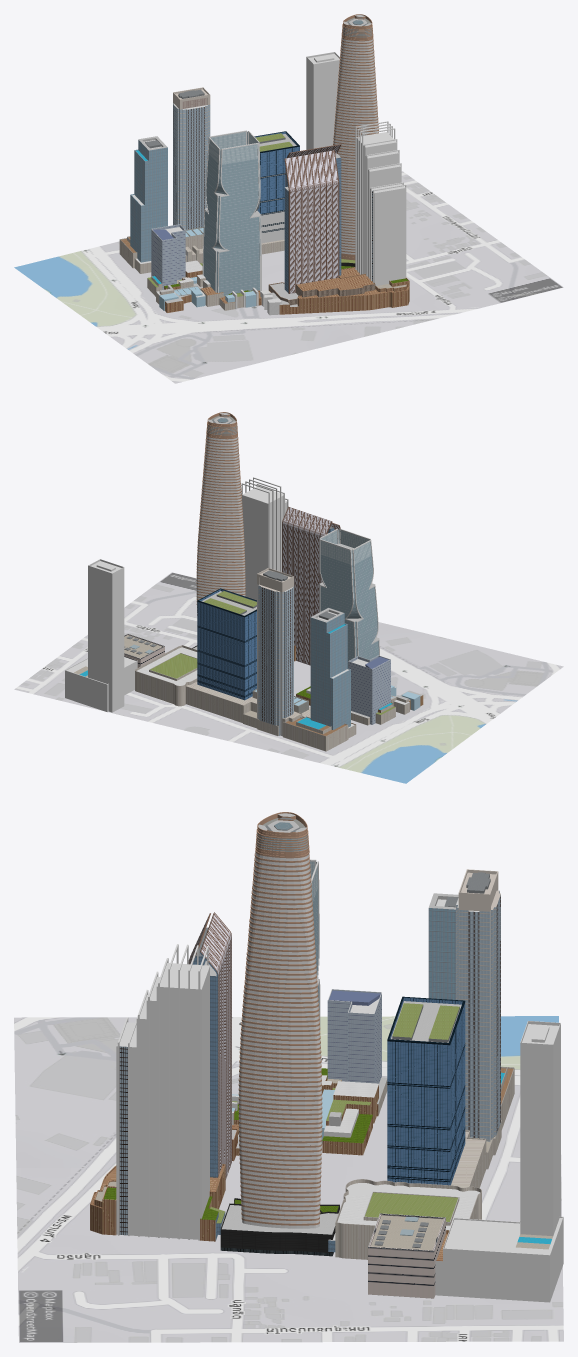
Rendered from One-Bangkok.glb.
3 views of the same model, one above another, from view 1: azimuth 30°, elevation 25°; view 2: azimuth 150°, elevation 25°; view 3: azimuth 270°, elevation 25° (orthographic). The views are drawn at different scales.
Parts seen in each view (by area): view 1: _(Loose Entity), G-Location Snapshot; view 2: _(Loose Entity), G-Location Snapshot; view 3: _(Loose Entity), G-Location Snapshot.
Part boxes in pixels (bbox=[...]): _(Loose Entity): bbox=[119, 14, 409, 315]; G-Location Snapshot: bbox=[14, 171, 563, 383]; _(Loose Entity): bbox=[65, 412, 423, 751]; G-Location Snapshot: bbox=[14, 572, 563, 783]; _(Loose Entity): bbox=[90, 812, 563, 1302]; G-Location Snapshot: bbox=[14, 1016, 563, 1342].
Bounding box in the file's own units: 741 × 436 × 527.
40 materials, 39 textured.
